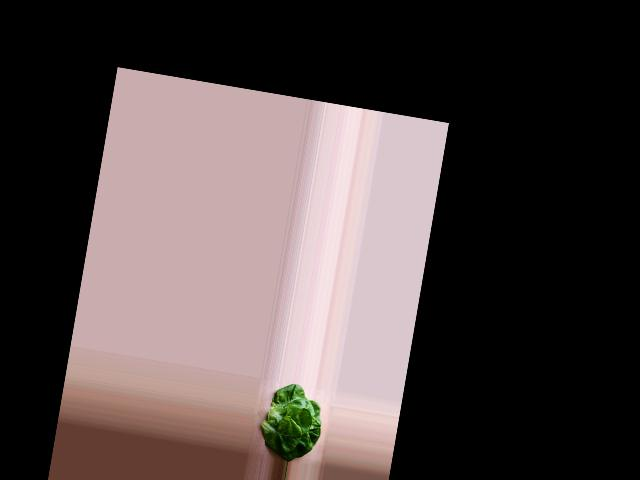lettuce: (258, 382, 327, 464)
